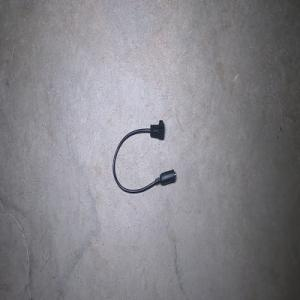Wire: (112, 120, 176, 193)
